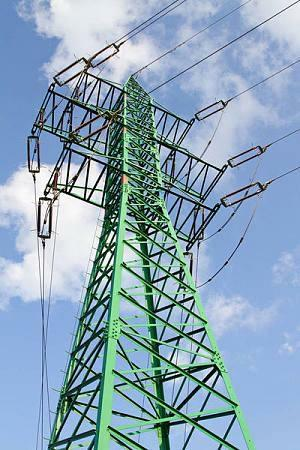power_tower: (33, 62, 265, 450)
